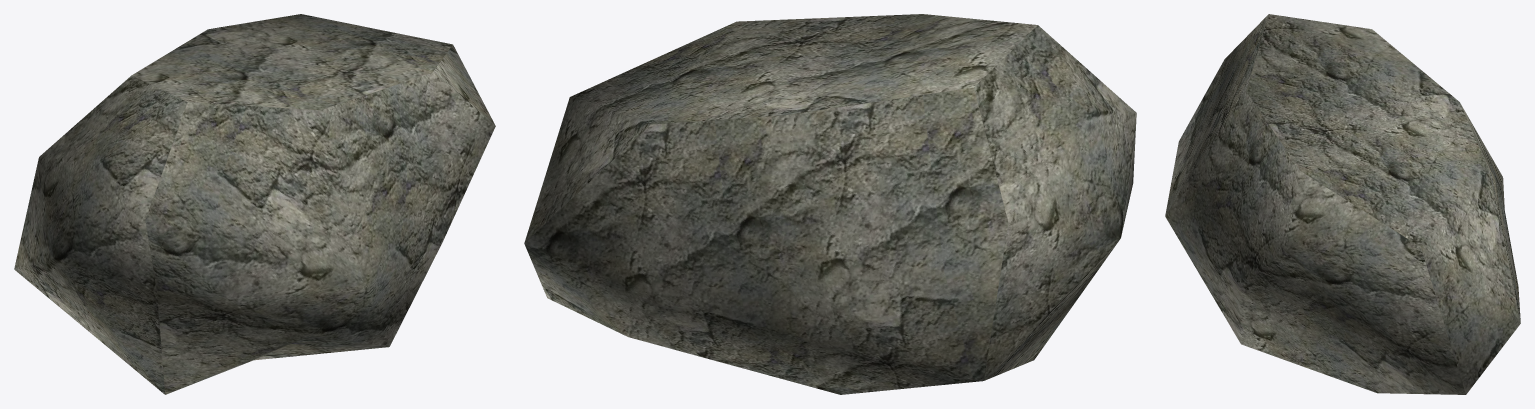
Rendered from MIN_LOB_STONE_V3_30.glb.
3 views of the same model, side by side, from view 1: azimuth 30°, elevation 25°; view 2: azimuth 150°, elevation 25°; view 3: azimuth 270°, elevation 25° (orthographic). The views are drawn at different scales.
Parts seen in each view (by area): view 1: Mesh; view 2: Mesh; view 3: Mesh.
Part boxes in pixels (<box>): Mesh: <box>14,14,495,394</box>; Mesh: <box>524,14,1136,394</box>; Mesh: <box>1165,14,1520,394</box>.
Bounding box in the file's own units: 6.94 × 4.36 × 5.25.
Materials: 1 (1 with a texture image).
